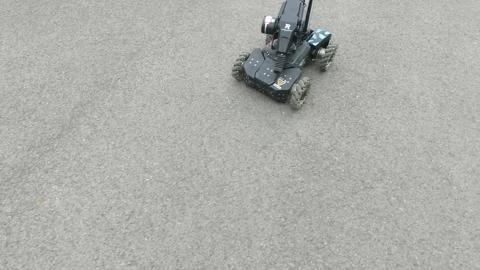chariot: (230, 1, 338, 111)
